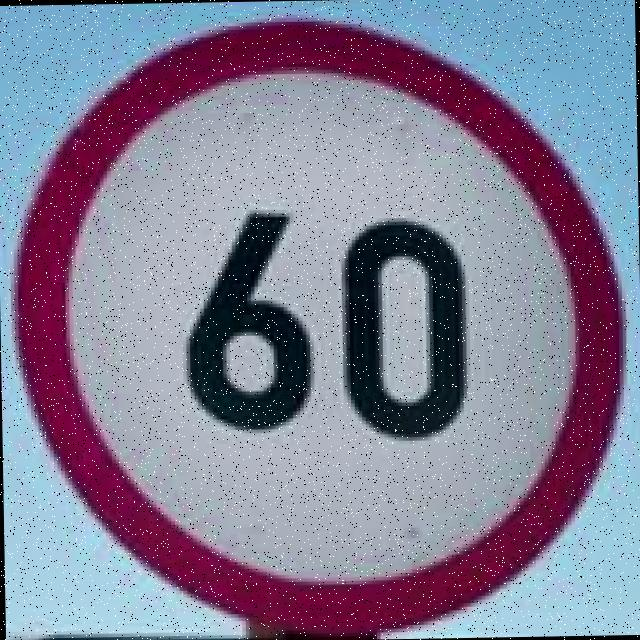Ograniczenie predkosci do 60: (5, 6, 628, 632)
